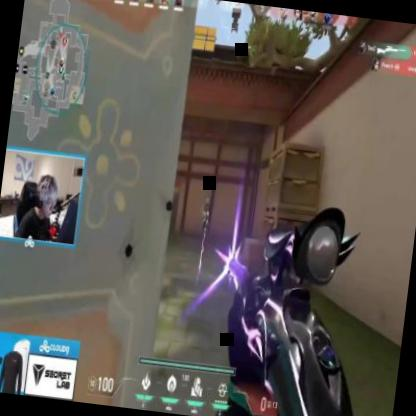enemy: (200, 204, 212, 240)
enemy_head: (204, 206, 209, 210)
